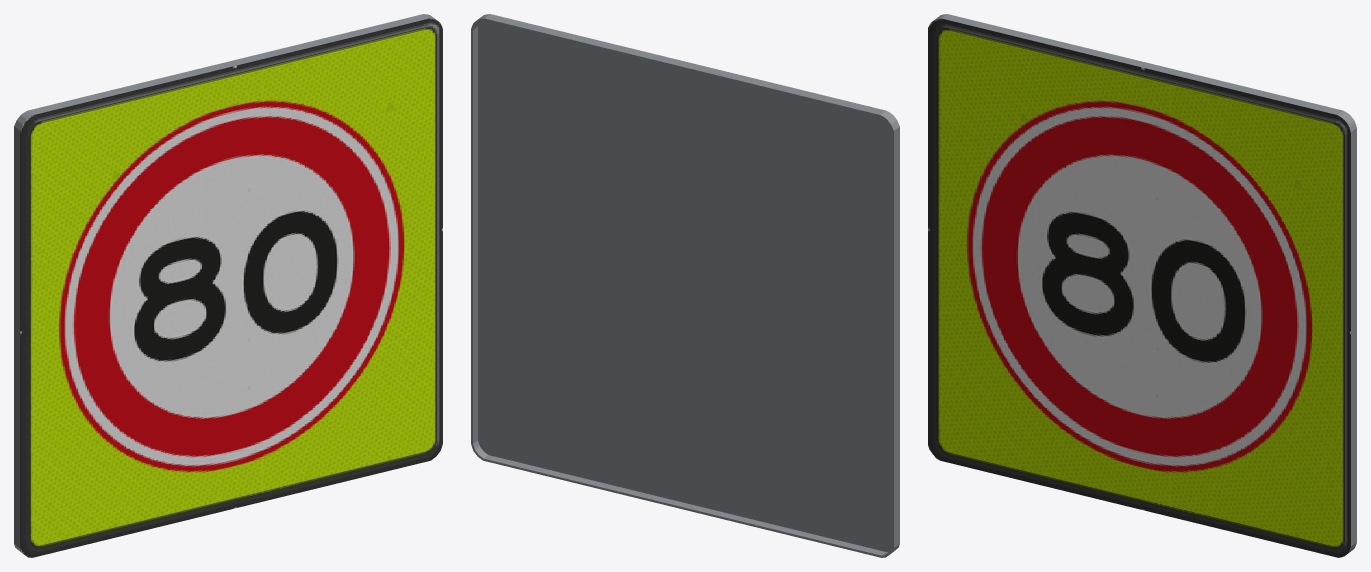
The picture shows the model from 3 angles, left to right: view 1: azimuth 30°, elevation 25°; view 2: azimuth 150°, elevation 25°; view 3: azimuth 330°, elevation 25°; orthographic projection.
Parts seen in each view (by area): view 1: cat_3a1d406d70100833; view 2: cat_3a1d406d70100833; view 3: cat_3a1d406d70100833.
Part boxes in pixels (x1,y1,x2,y2): cat_3a1d406d70100833: (14,14,442,557); cat_3a1d406d70100833: (471,14,899,557); cat_3a1d406d70100833: (928,14,1356,557).
Bounding box in the file's own units: 0.6 × 0.015 × 0.6.
Materials: 2 (1 with a texture image).
